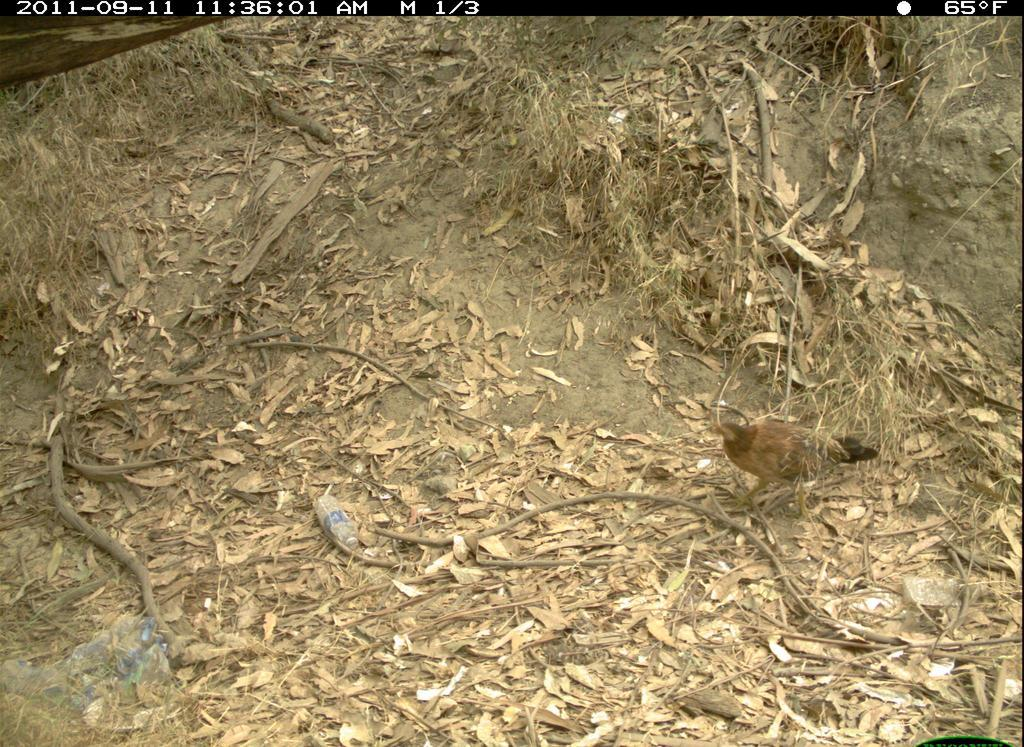bird: (708, 409, 870, 519)
